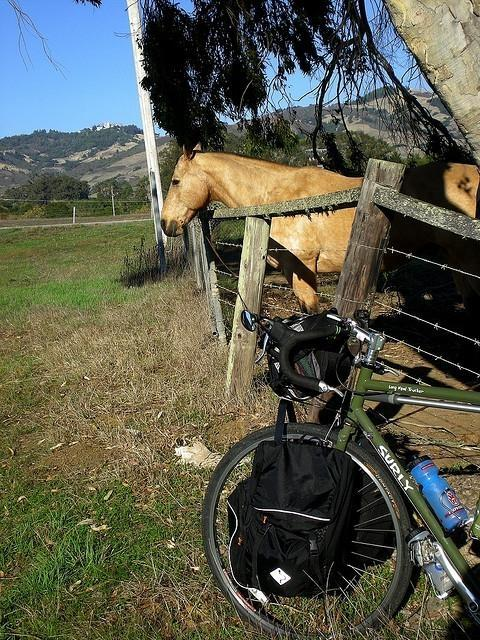bicycle: (209, 312, 480, 636)
